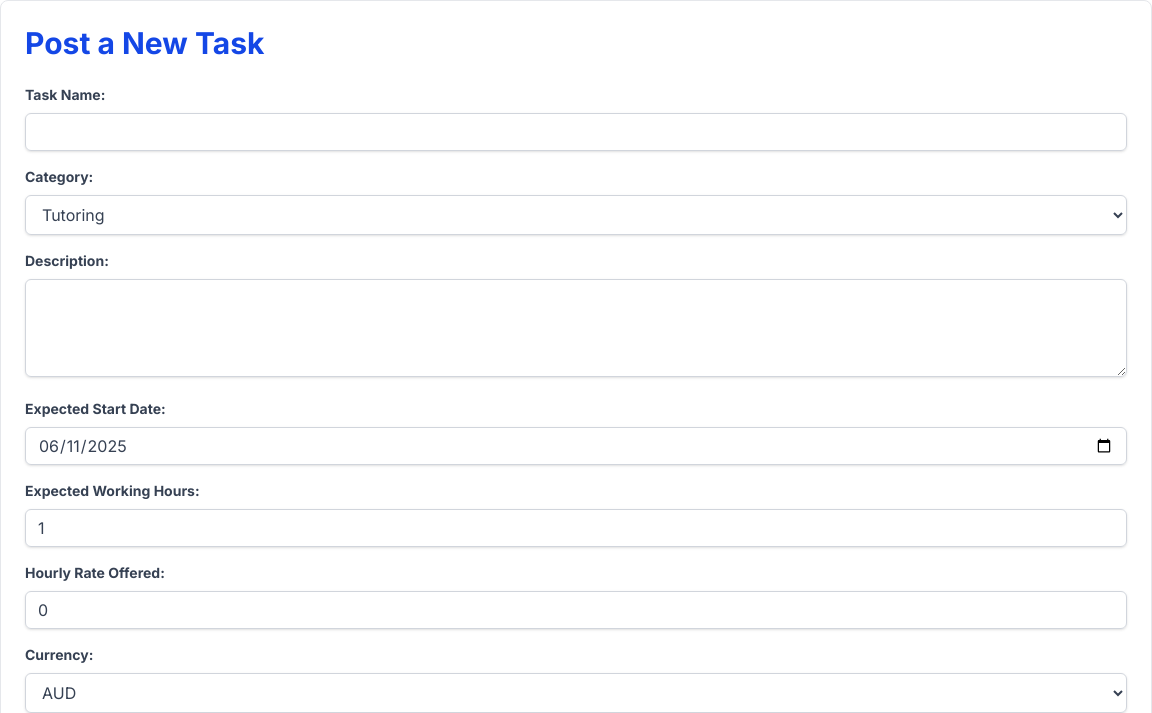
Scenario: CreateTaskPage › shows API error message
Type "Test Task" into the field labelled "Task Name:" at point(576, 132), box [25, 113, 1127, 151]
(page scrolled)
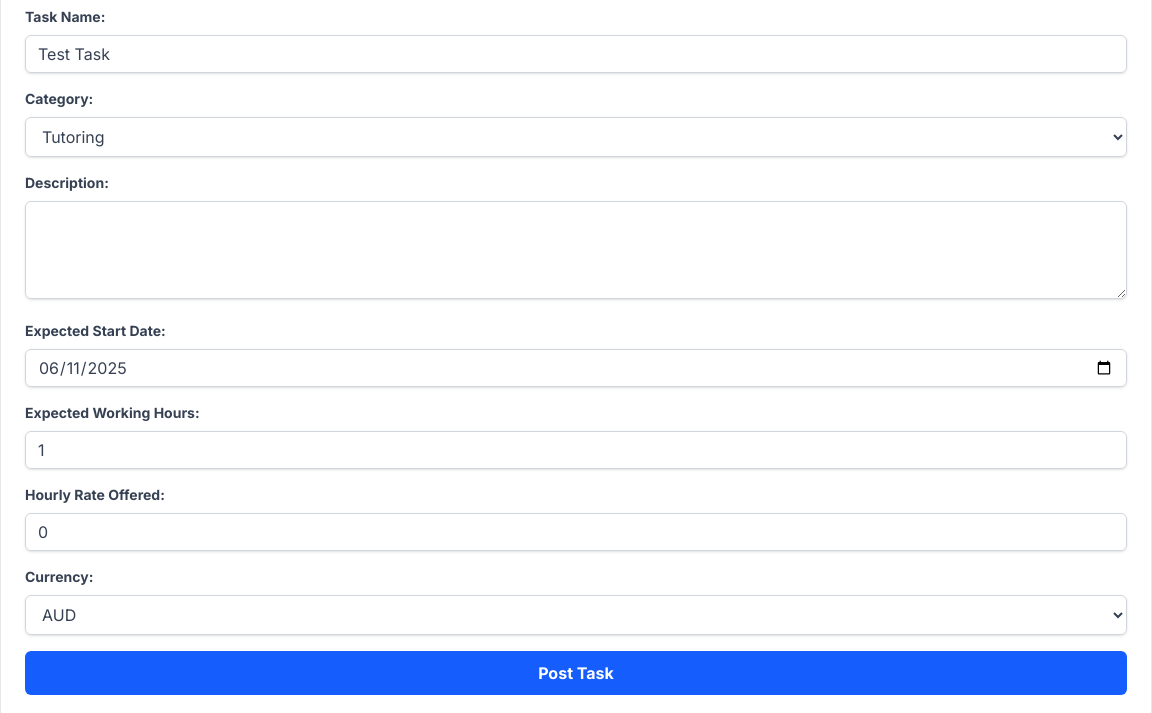
Click the button "Post Task" at point(576, 673), box [25, 651, 1127, 695]
(page scrolled)
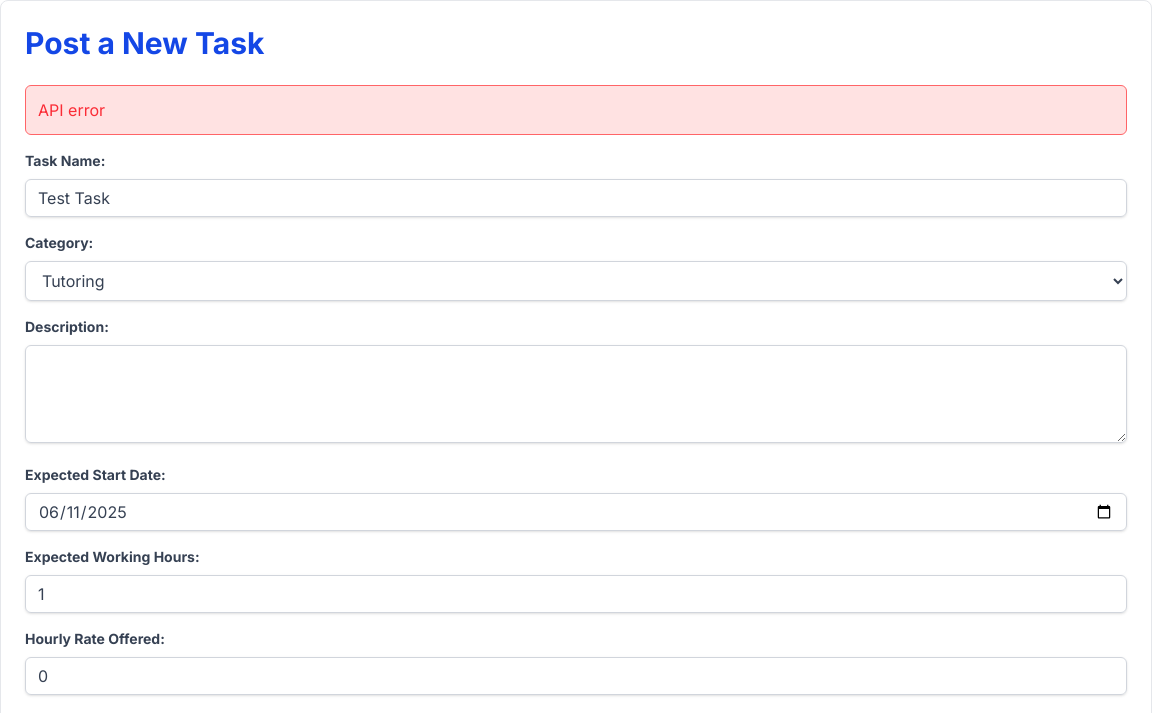
Expected: the text "API error" is shown, [25, 85, 1127, 135]
